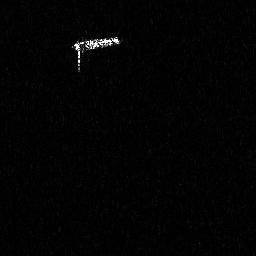ship: (70, 34, 121, 74)
